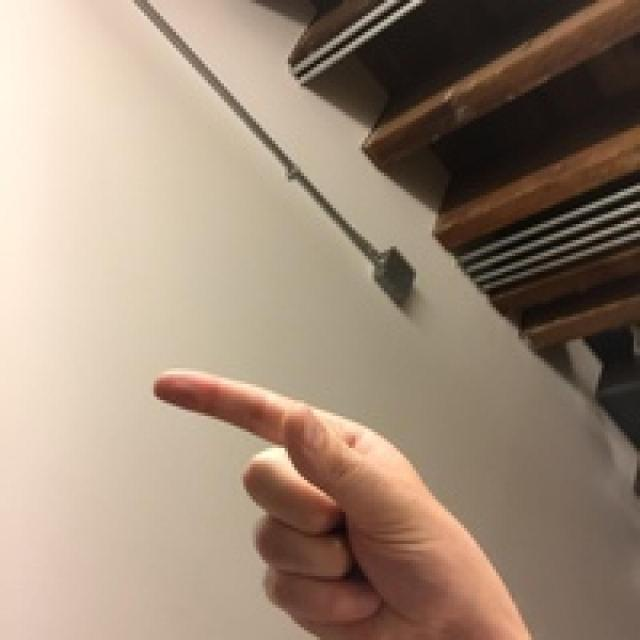G: (118, 293, 527, 640)
